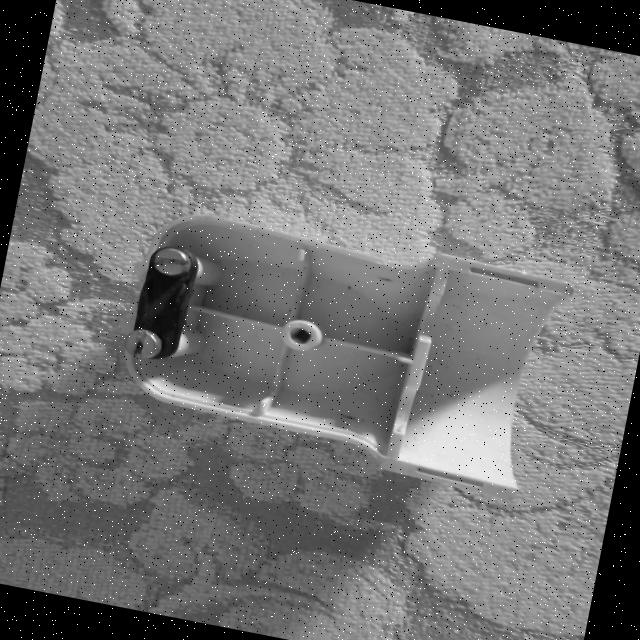Slotted: (120, 326, 164, 362), (150, 244, 193, 279)
